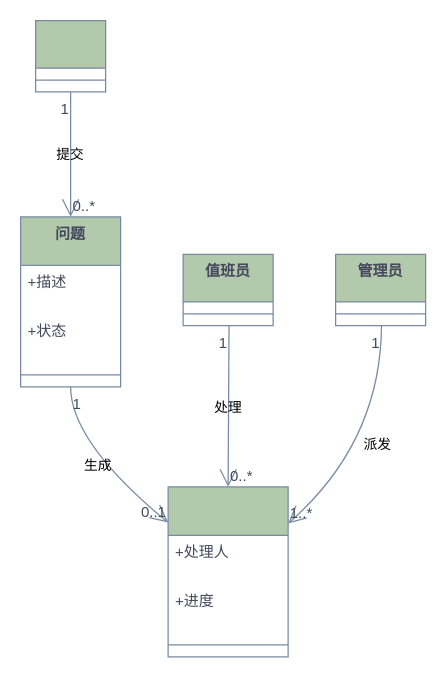
Some shapes in this 446 by 678 pixel diagram are drawn without their labels. Here are the shapes that lost their labels. From the top down, the box of each, then its label:
(34, 19, 106, 92): 用户
(167, 486, 288, 657): 工单
